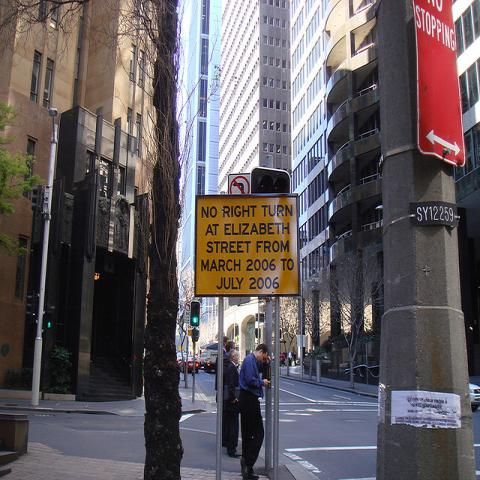car: (470, 382, 479, 412), (185, 356, 199, 373), (196, 352, 207, 369), (176, 353, 182, 362)
truck: (200, 340, 218, 374)
